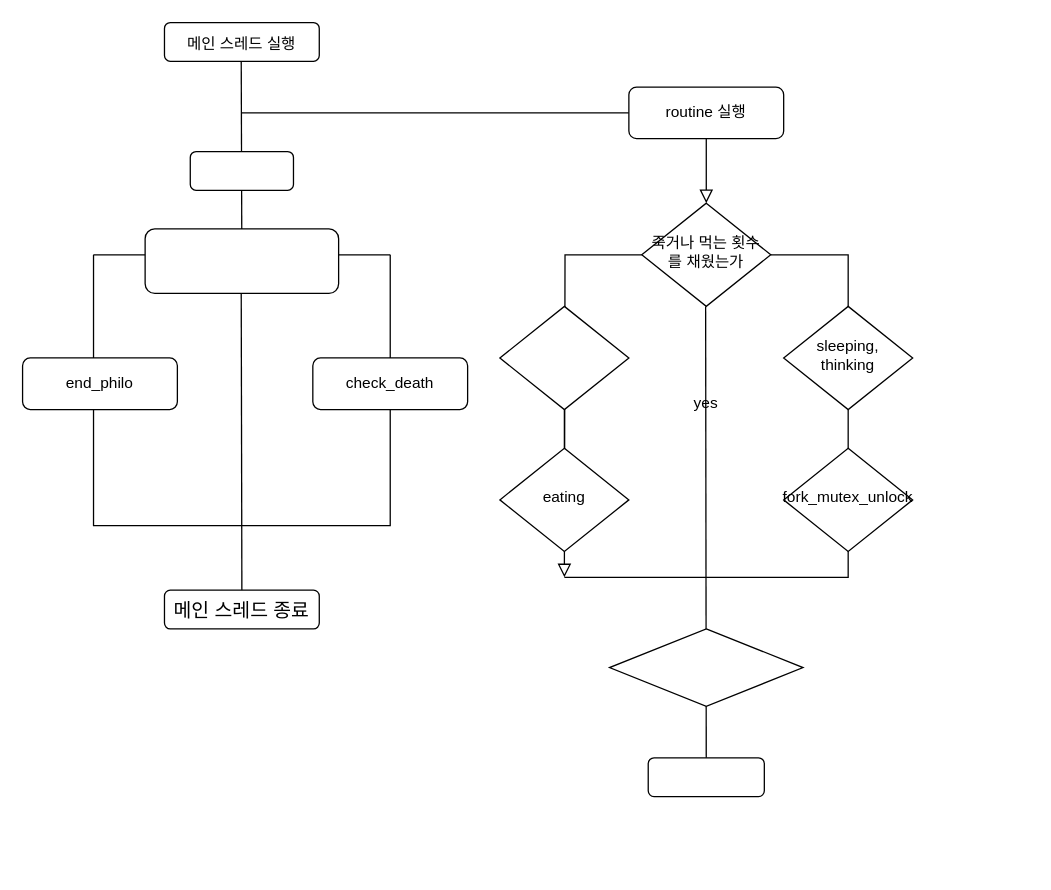
The diagram is 1051 pixels wide and 890 high, and some of its shapes have lost their labels. Here are the shapes that lost their labels. From the top down, the centre of each, then its label:
pixel 241 170: monitoring
pixel 241 260: 모든 스레드의 philo -> end가 1인가
pixel 564 357: fork_mutex_lock
pixel 705 667: philo -> end = 1
pixel 705 777: 스레드 종료
